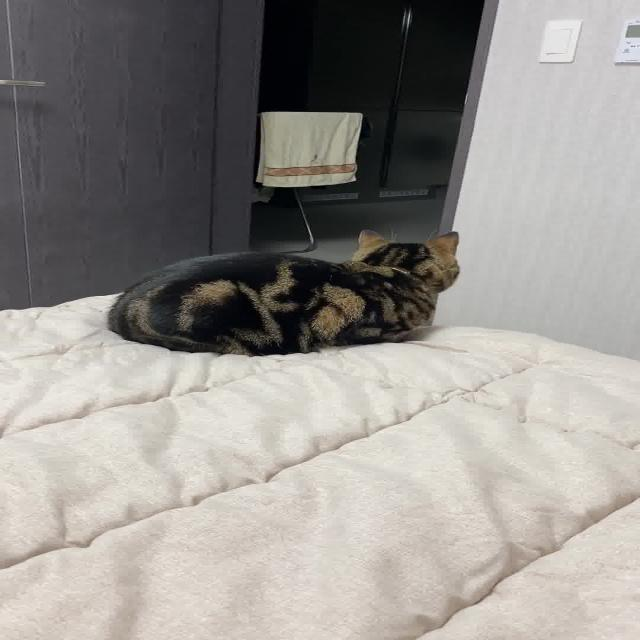cat: (92, 222, 476, 358)
